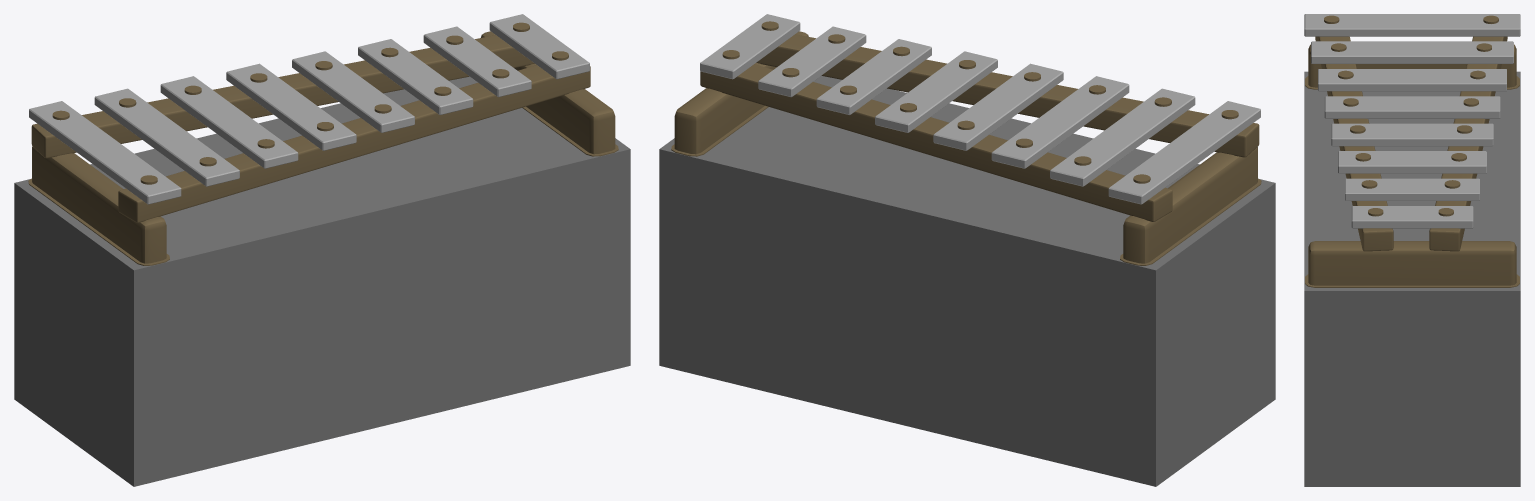
Rendered from Xylophone.fbx.
3 renders of one model, left to right at view 1: azimuth 30°, elevation 25°; view 2: azimuth 150°, elevation 25°; view 3: azimuth 270°, elevation 25°, orthographic. The views are drawn at different scales.
Visible parts, largest first — view 1: Table, Mid_Support_2, Bottom_Support_2, Mid_Support_1, pCube8, pCube6, pCube4, pCube2, Bottom_Support_1, pCube3, pCube5, pCube7 (+1 smaller); view 2: Table, Mid_Support_1, Bottom_Support_2, Mid_Support_2, pCube8, pCube6, pCube4, pCube2, Bottom_Support_1, pCube3, pCube5, pCube7 (+1 smaller); view 3: Table, Bottom_Support_1, pCube8, pCube6, pCube4, pCube2, pCube3, pCube5, pCube7, pCube9, Mid_Support_2, Mid_Support_1 (+1 smaller).
Part boxes in pixels (box(x1,y1,x2,y2)): Table: box(14, 76, 630, 486); Mid_Support_2: box(118, 65, 590, 222); Bottom_Support_2: box(28, 147, 169, 265); Mid_Support_1: box(31, 35, 534, 158); pCube8: box(29, 101, 181, 204); pCube6: box(94, 88, 239, 186); pCube4: box(160, 76, 298, 168); pCube2: box(226, 63, 356, 150); Bottom_Support_1: box(481, 31, 618, 156); pCube3: box(292, 51, 414, 132); pCube5: box(358, 39, 473, 114); pCube7: box(423, 26, 531, 97); Table: box(659, 75, 1275, 486); Mid_Support_1: box(700, 64, 1172, 221); Bottom_Support_2: box(1120, 147, 1261, 265); Mid_Support_2: box(756, 34, 1259, 157); pCube8: box(1108, 101, 1260, 204); pCube6: box(1050, 88, 1195, 186); pCube4: box(991, 76, 1129, 168); pCube2: box(933, 63, 1063, 150); Bottom_Support_1: box(671, 31, 808, 156); pCube3: box(875, 51, 997, 132); pCube5: box(816, 39, 931, 114); pCube7: box(758, 26, 866, 97); Table: box(1304, 71, 1520, 486); Bottom_Support_1: box(1305, 241, 1519, 287); pCube8: box(1304, 14, 1520, 36); pCube6: box(1311, 41, 1513, 63); pCube4: box(1318, 69, 1506, 91); pCube2: box(1324, 96, 1500, 118); pCube3: box(1331, 123, 1493, 146); pCube5: box(1338, 151, 1486, 173); pCube7: box(1345, 178, 1479, 200); pCube9: box(1351, 206, 1473, 228); Mid_Support_2: box(1315, 36, 1393, 251); Mid_Support_1: box(1429, 36, 1507, 251).
Bounding box in the file's own units: 240 × 134 × 100.
